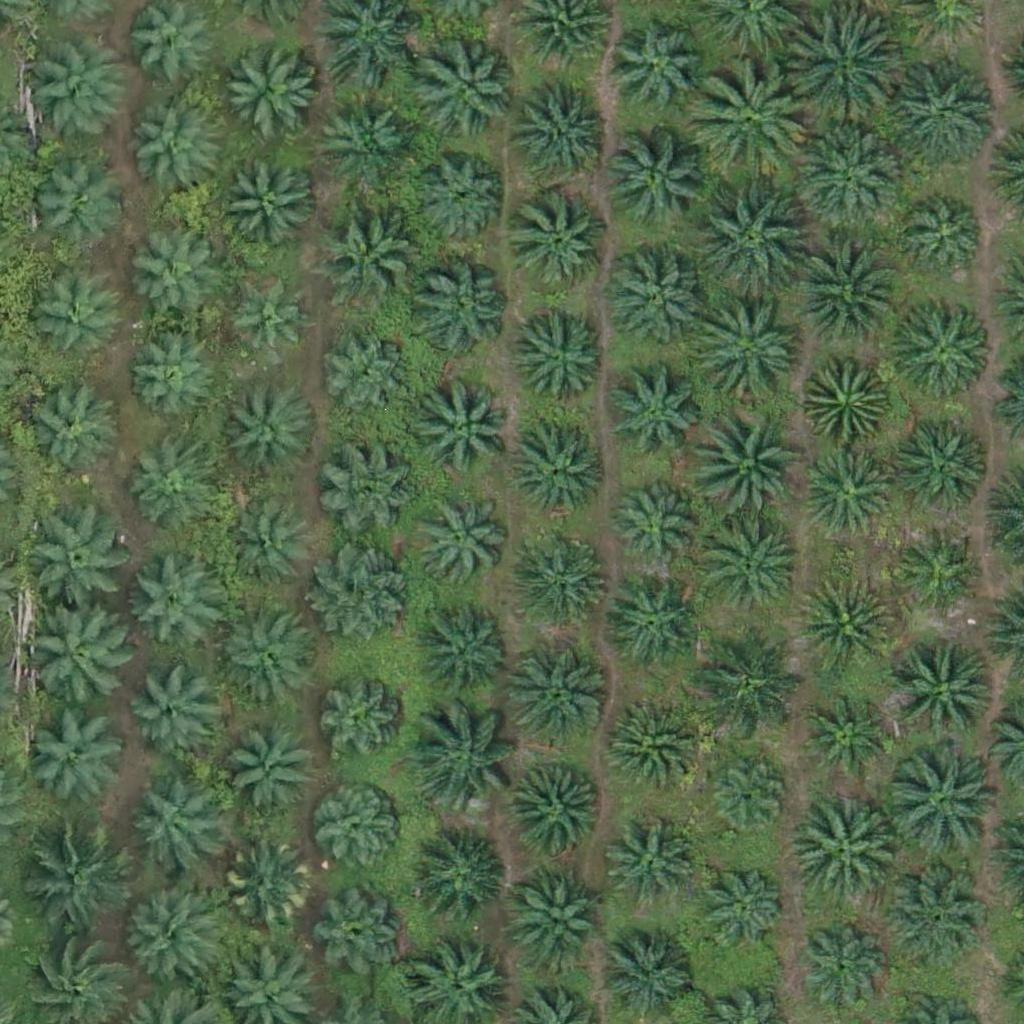Kelapa_Sawit: (21, 602, 134, 716), (885, 750, 998, 863), (411, 706, 524, 819), (696, 622, 809, 735), (696, 297, 809, 410), (695, 181, 808, 294), (21, 826, 133, 940), (796, 118, 908, 232), (891, 635, 1003, 749), (785, 794, 897, 907), (695, 511, 807, 624), (690, 401, 802, 514), (693, 64, 805, 177), (783, 12, 895, 125), (788, 233, 900, 346), (886, 53, 998, 166), (882, 867, 982, 968), (599, 696, 699, 797), (411, 829, 511, 930), (33, 707, 133, 808), (18, 385, 118, 486), (33, 510, 133, 611), (123, 222, 223, 323), (217, 605, 317, 706), (218, 156, 318, 257), (220, 37, 320, 138), (315, 89, 415, 190), (318, 200, 418, 301), (317, 438, 417, 539), (315, 542, 415, 643), (418, 377, 518, 478), (411, 492, 511, 593), (415, 601, 515, 702), (509, 644, 609, 745), (508, 420, 608, 521), (510, 191, 610, 292), (608, 18, 708, 119), (606, 128, 706, 229), (601, 364, 701, 465), (604, 576, 704, 677), (794, 575, 894, 676), (893, 419, 993, 520), (892, 295, 992, 396), (506, 763, 606, 863), (507, 868, 607, 968), (116, 889, 216, 989), (28, 43, 128, 143), (124, 548, 224, 648), (417, 42, 517, 142), (408, 259, 508, 359), (516, 531, 616, 631), (511, 307, 611, 407), (518, 78, 618, 178), (605, 246, 705, 346), (707, 753, 795, 841), (696, 860, 784, 948), (609, 821, 697, 909), (126, 667, 214, 755), (127, 783, 215, 871), (31, 161, 119, 249), (27, 273, 115, 361), (128, 105, 216, 193), (125, 338, 213, 426), (227, 382, 315, 470), (322, 332, 410, 420), (805, 445, 893, 533), (801, 696, 889, 784), (899, 520, 987, 608), (221, 275, 308, 364), (797, 921, 884, 1009), (317, 681, 404, 769), (314, 790, 401, 878), (317, 889, 404, 977), (224, 842, 311, 930), (223, 727, 310, 815), (124, 445, 211, 533), (222, 503, 309, 591), (417, 153, 504, 241), (611, 478, 698, 566), (803, 353, 890, 441), (904, 195, 991, 283)
